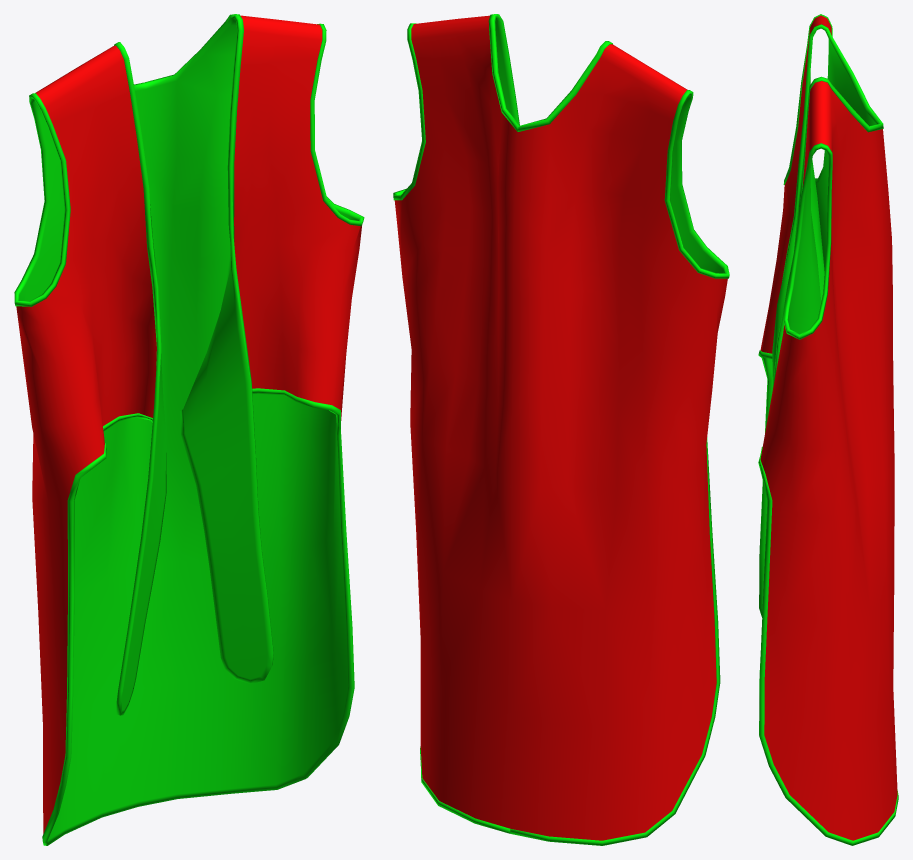
File: Safety_Apron.FBX
3 views of the same model, side by side, from view 1: azimuth 30°, elevation 25°; view 2: azimuth 150°, elevation 25°; view 3: azimuth 270°, elevation 25° (orthographic). The views are drawn at different scales.
Visible parts, largest first — view 1: Apron; view 2: Apron; view 3: Apron.
Part boxes in pixels (x1=…): Apron: x1=14, y1=14, x2=364, y2=845; Apron: x1=393, y1=14, x2=729, y2=845; Apron: x1=758, y1=14, x2=898, y2=845.
Size of the model in its own units: 19.4 by 42.8 by 7.27.
